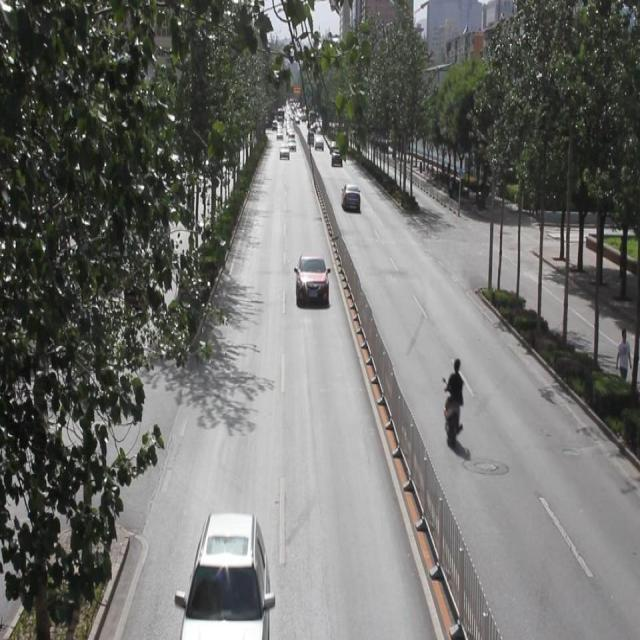car: (181, 508, 270, 640), (295, 252, 328, 306), (340, 181, 360, 211), (329, 148, 343, 168), (278, 142, 289, 160), (329, 139, 342, 154), (314, 133, 324, 149), (286, 136, 297, 150)
